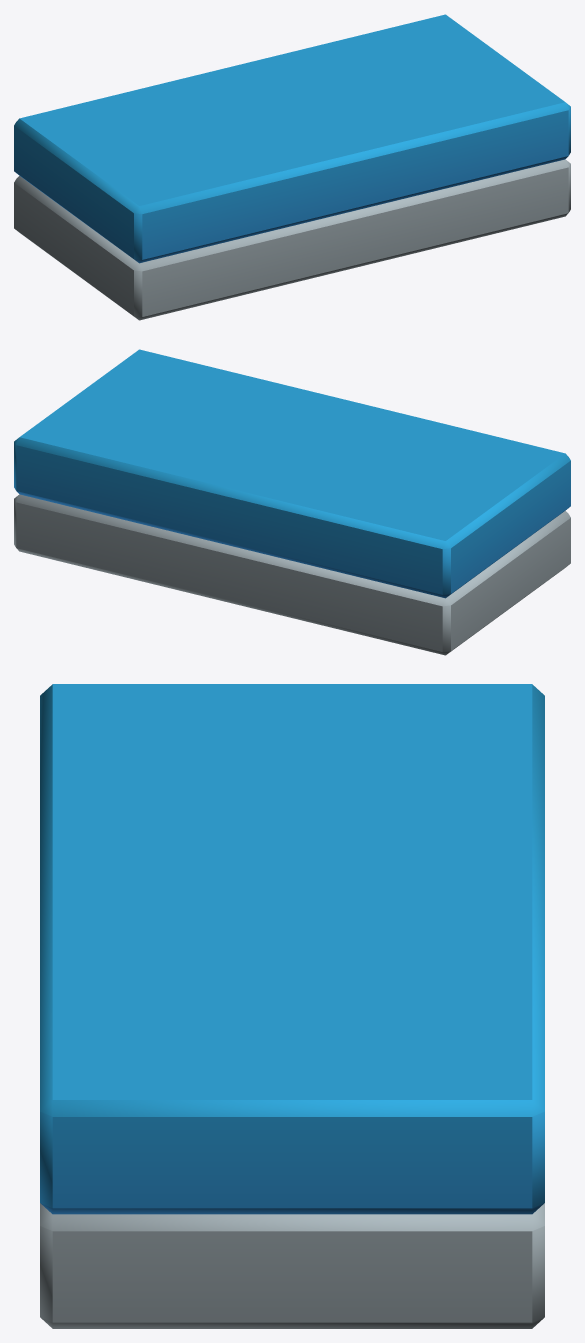
The model's file is platform_4x2x1_blue.obj.
The picture shows the model from 3 angles, top to bottom: view 1: azimuth 30°, elevation 25°; view 2: azimuth 150°, elevation 25°; view 3: azimuth 270°, elevation 25°; orthographic projection. The views are drawn at different scales.
Visible parts, largest first — view 1: platform_4x2x1_blue; view 2: platform_4x2x1_blue; view 3: platform_4x2x1_blue.
Boxes of the visible parts, box(x1,y1,x2,y2) form: platform_4x2x1_blue: box(14, 14, 570, 320); platform_4x2x1_blue: box(14, 349, 570, 655); platform_4x2x1_blue: box(40, 684, 544, 1328).
Size of the model in its own units: 4 by 1 by 2.
